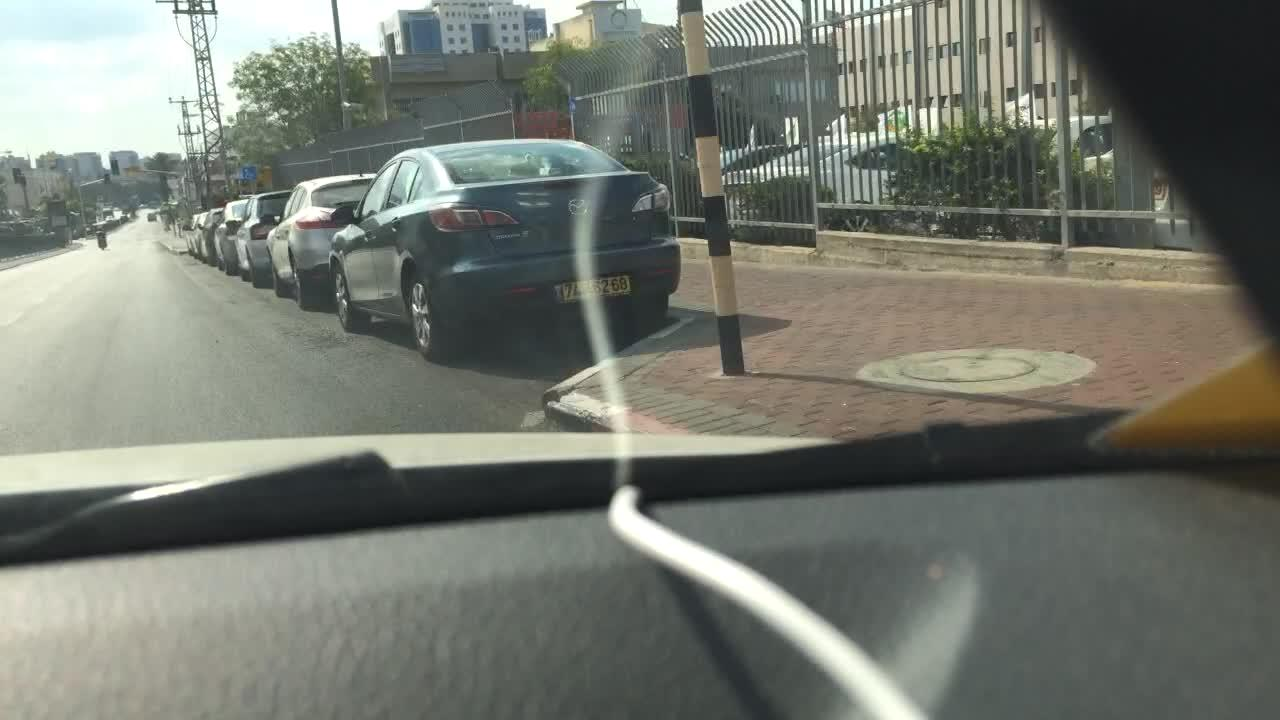Mazda: (567, 196, 589, 218)
